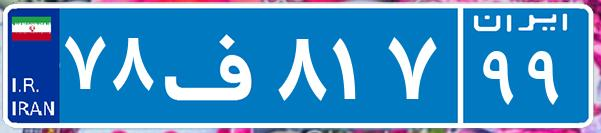1: (330, 28, 385, 110)
7: (385, 28, 445, 110), (57, 26, 110, 107)
8: (273, 28, 330, 110), (110, 28, 158, 105)
9: (475, 38, 525, 113), (525, 38, 570, 115)
ف: (158, 15, 273, 115)
